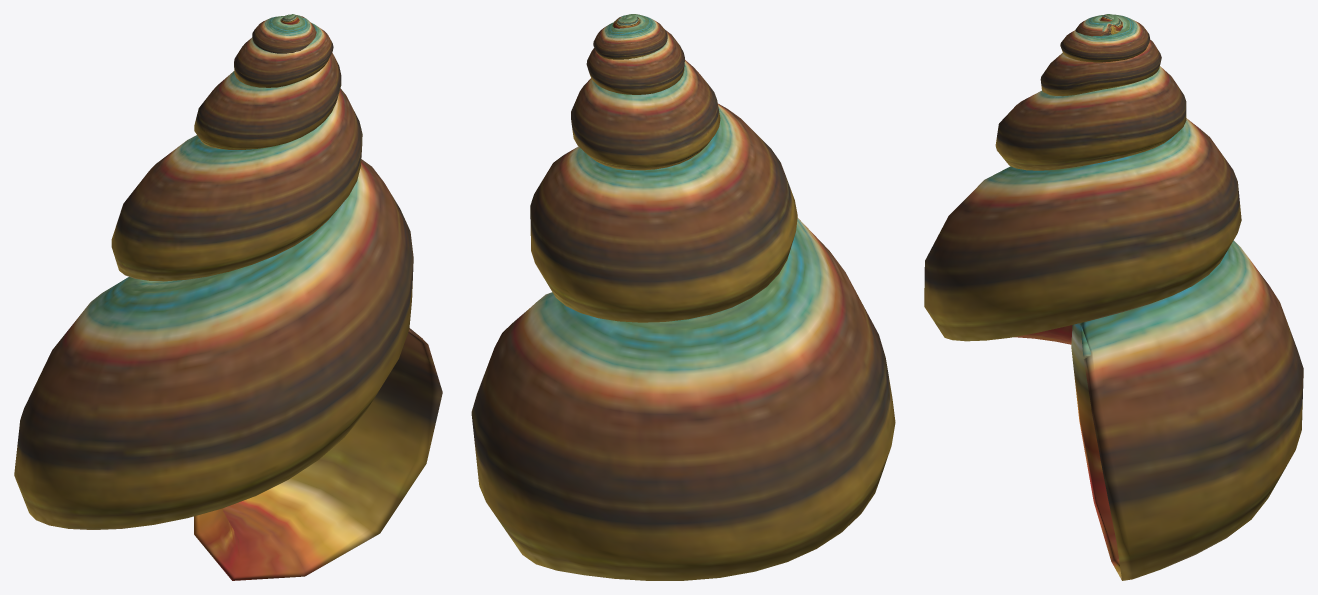
Rendered from conch.FBX.
The picture shows the model from 3 angles, left to right: view 1: azimuth 30°, elevation 25°; view 2: azimuth 150°, elevation 25°; view 3: azimuth 270°, elevation 25°; orthographic projection. The views are drawn at different scales.
Visible parts, largest first — view 1: conch_00; view 2: conch_00; view 3: conch_00.
Boxes of the visible parts, x1,y1,x2,y2 form: conch_00: [14, 14, 442, 580]; conch_00: [471, 14, 895, 580]; conch_00: [924, 14, 1303, 580].
Size of the model in its own units: 25.09 by 34.16 by 21.75.
